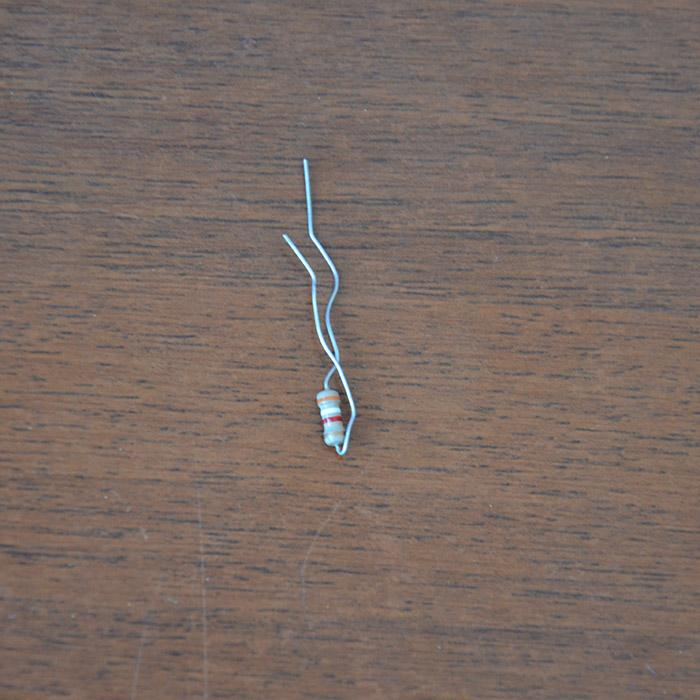resistor: (314, 387, 345, 447)
